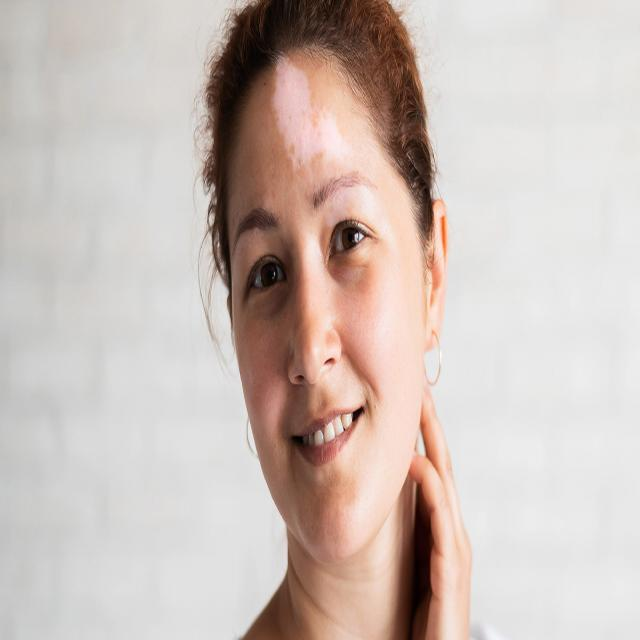vitiligo: (264, 65, 351, 181), (317, 185, 398, 248)
